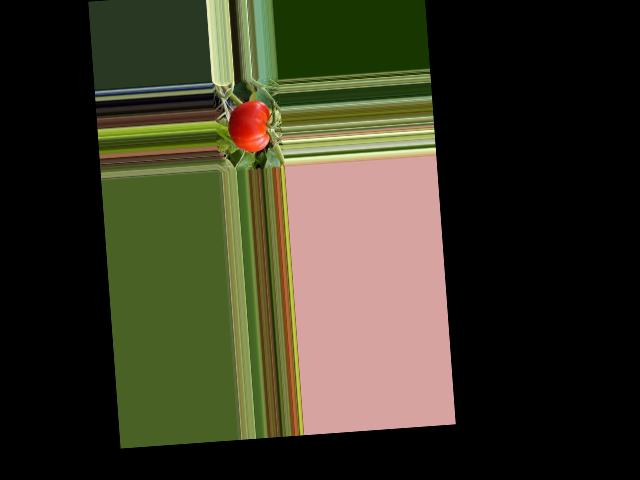tomato: (226, 99, 272, 153)
